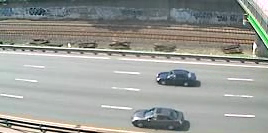car: (128, 103, 187, 130), (153, 66, 198, 88)
